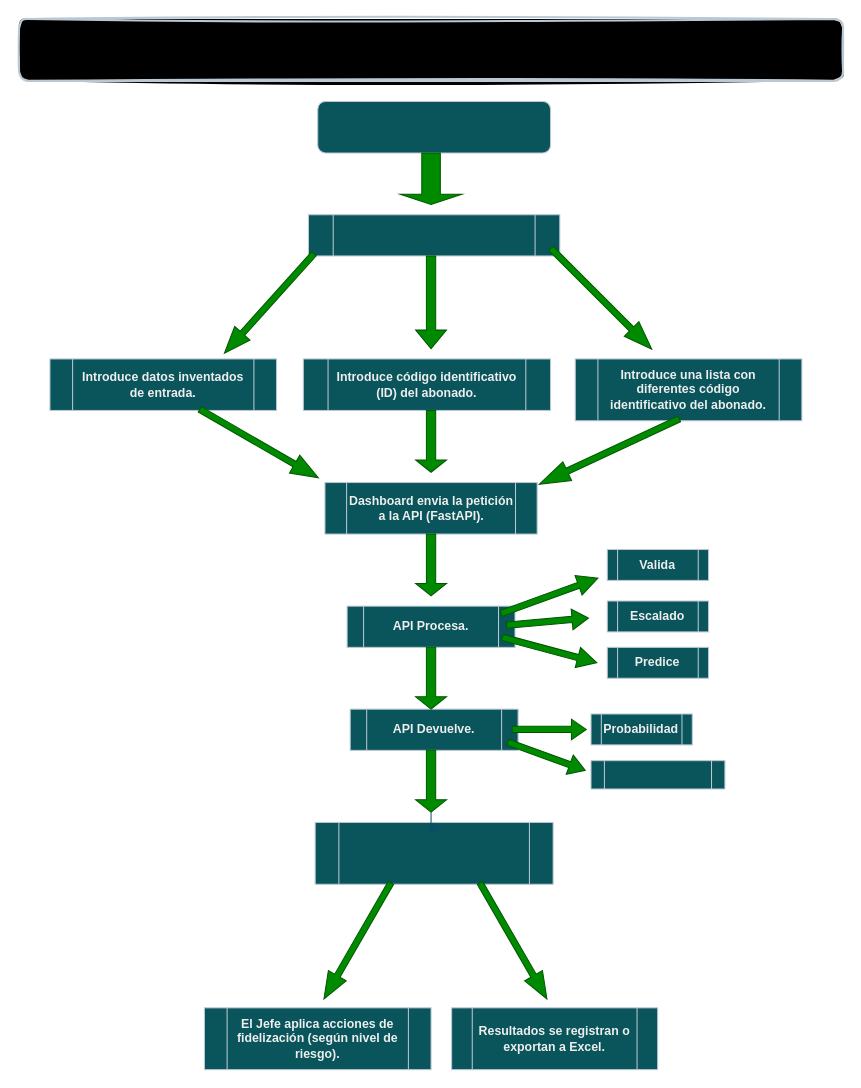
Some shapes in this 861 by 1088 pixel diagram are drawn without their labels. The centre of each missing label's shape, as x and y in pixels:
"Accede al Dashboard (Streamlit)" belongs at (x=433, y=235).
"Dashboard muestra resultados visuales y recomendaciones." belongs at (x=433, y=852).
"FLUJO DE INTERACCIÓN DEL USUARIO" belongs at (x=431, y=49).
"JEFE DEL CENTRO DEPORTIVO" belongs at (x=434, y=126).
"Nivel de riesgo" belongs at (x=657, y=774).
